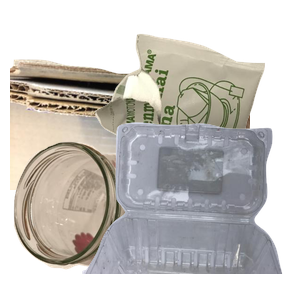cardboard: (10, 57, 250, 237)
glass: (11, 139, 179, 300)
plastic: (80, 120, 300, 300)
trash: (93, 31, 300, 205)
